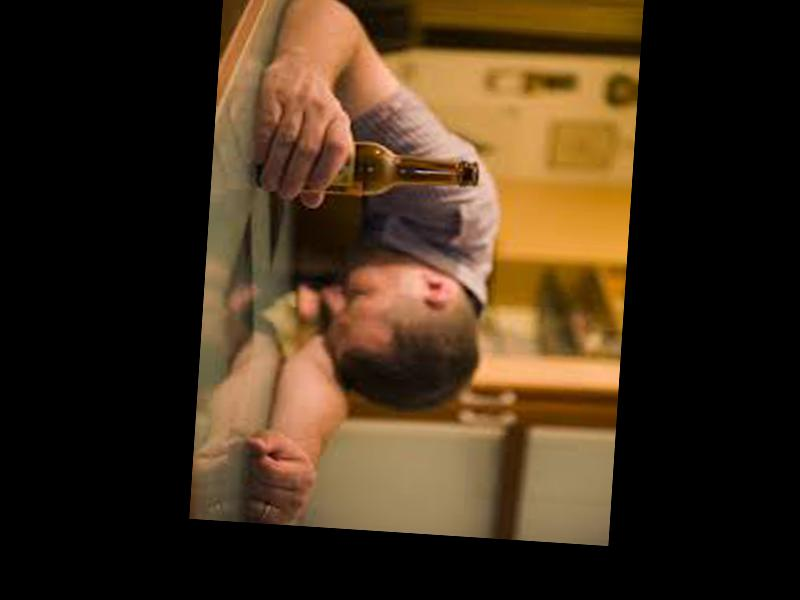Beer: (254, 137, 481, 201)
